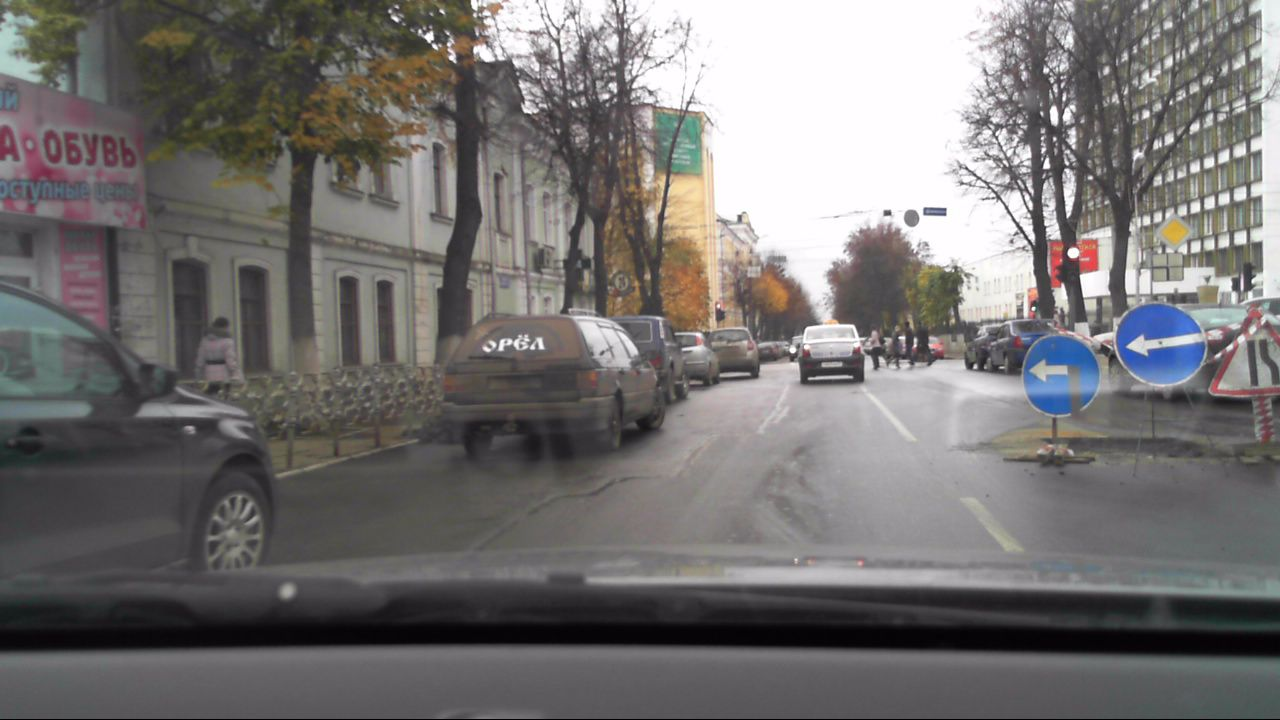Turn Left: (1113, 303, 1207, 386)
